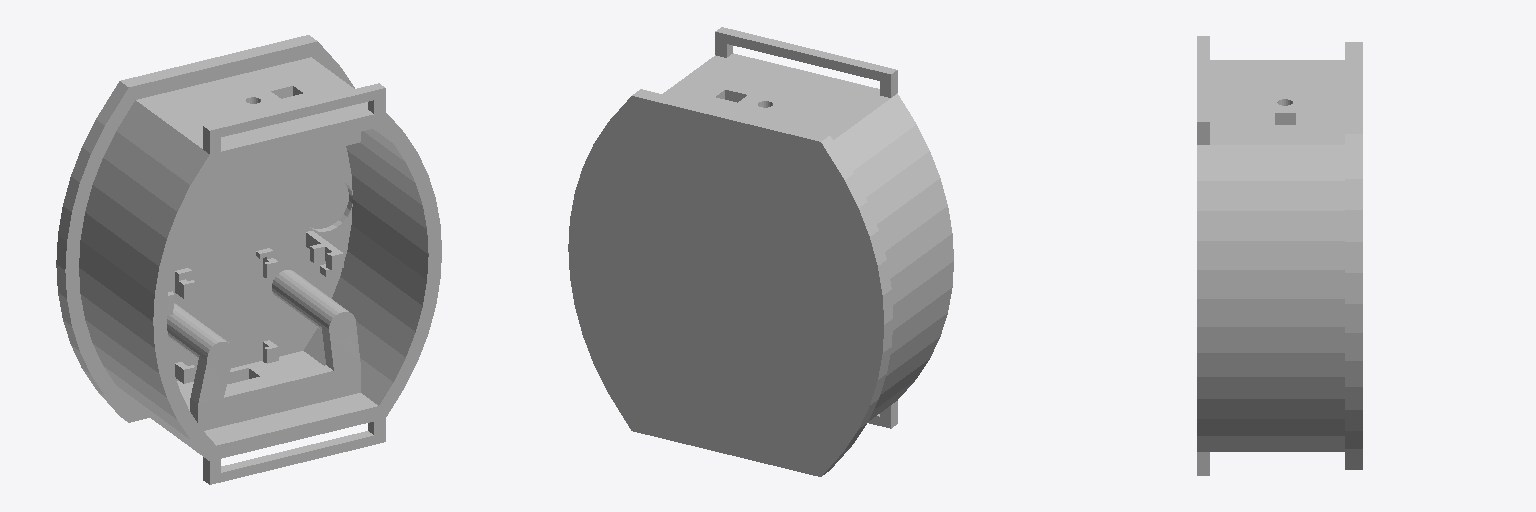
Rendered from Case Base.obj.
3 views of the same model, side by side, from view 1: azimuth 30°, elevation 25°; view 2: azimuth 150°, elevation 25°; view 3: azimuth 270°, elevation 25° (orthographic).
Parts seen in each view (by area): view 1: DefaultMaterial~1; view 2: DefaultMaterial~1; view 3: DefaultMaterial~1.
Boxes of the visible parts, x1=… form: DefaultMaterial~1: x1=56, y1=35, x2=441, y2=484; DefaultMaterial~1: x1=568, y1=27, x2=953, y2=476; DefaultMaterial~1: x1=1197, y1=36, x2=1362, y2=475.
Bounding box in the file's own units: 0.07 × 0.075 × 0.032.